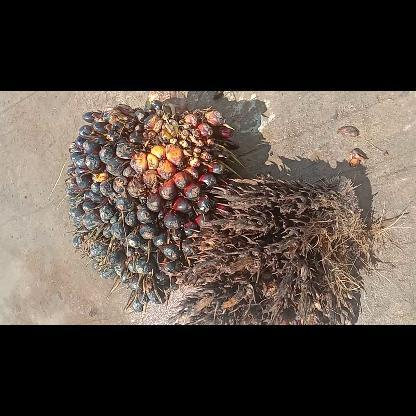Janjang kosong: (167, 170, 365, 324)
TBS mentah: (66, 100, 244, 318)
